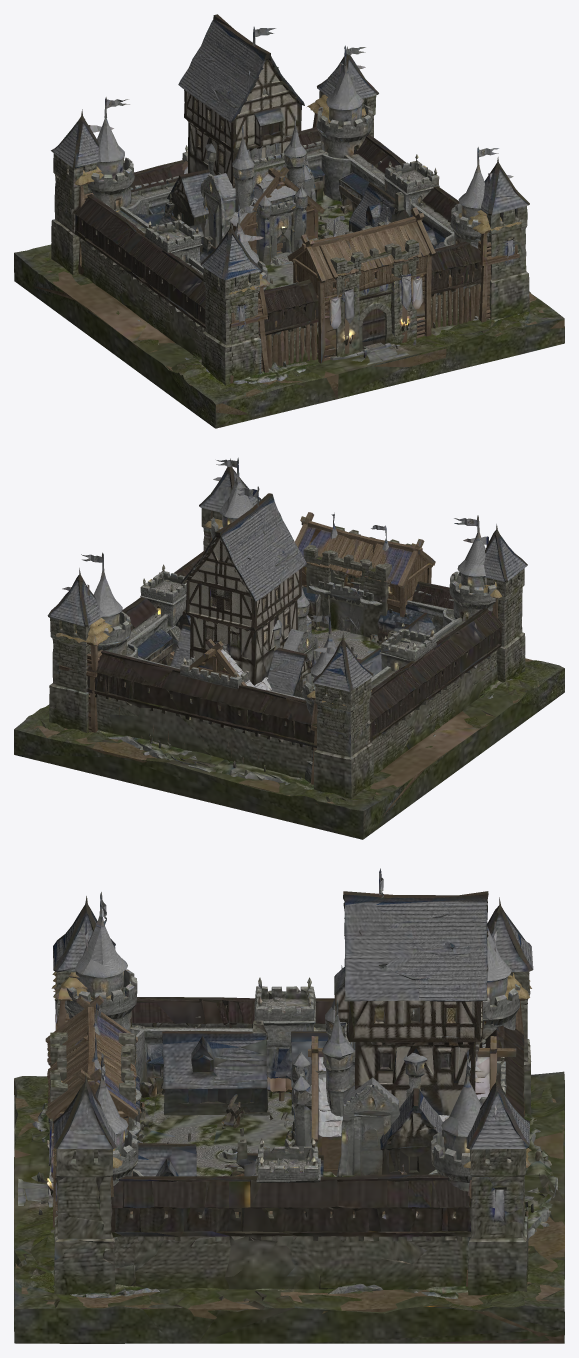
The model's file is castles.glb.
The picture shows the model from 3 angles, top to bottom: view 1: azimuth 30°, elevation 25°; view 2: azimuth 150°, elevation 25°; view 3: azimuth 270°, elevation 25°; orthographic projection. The views are drawn at different scales.
Visible parts, largest first — view 1: Castle_L2, Castle_L3, Castle_L1; view 2: Castle_L2, Castle_L3, Castle_L1; view 3: Castle_L2, Castle_L3, Castle_L1.
Part boxes in pixels (x1,y1,x2,y2): Castle_L2: [14, 14, 564, 428]; Castle_L3: [87, 26, 519, 384]; Castle_L1: [33, 63, 564, 427]; Castle_L2: [14, 458, 564, 839]; Castle_L3: [81, 457, 512, 789]; Castle_L1: [34, 476, 539, 816]; Castle_L2: [14, 891, 564, 1343]; Castle_L3: [18, 868, 557, 1298]; Castle_L1: [14, 921, 564, 1343].
Bounding box in the file's own units: 3.9 × 2.8 × 3.9.
9 materials, 9 textured.
